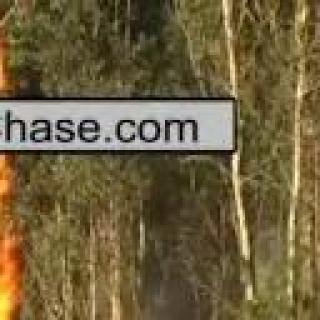fire: (0, 202, 19, 320), (0, 17, 6, 202)
